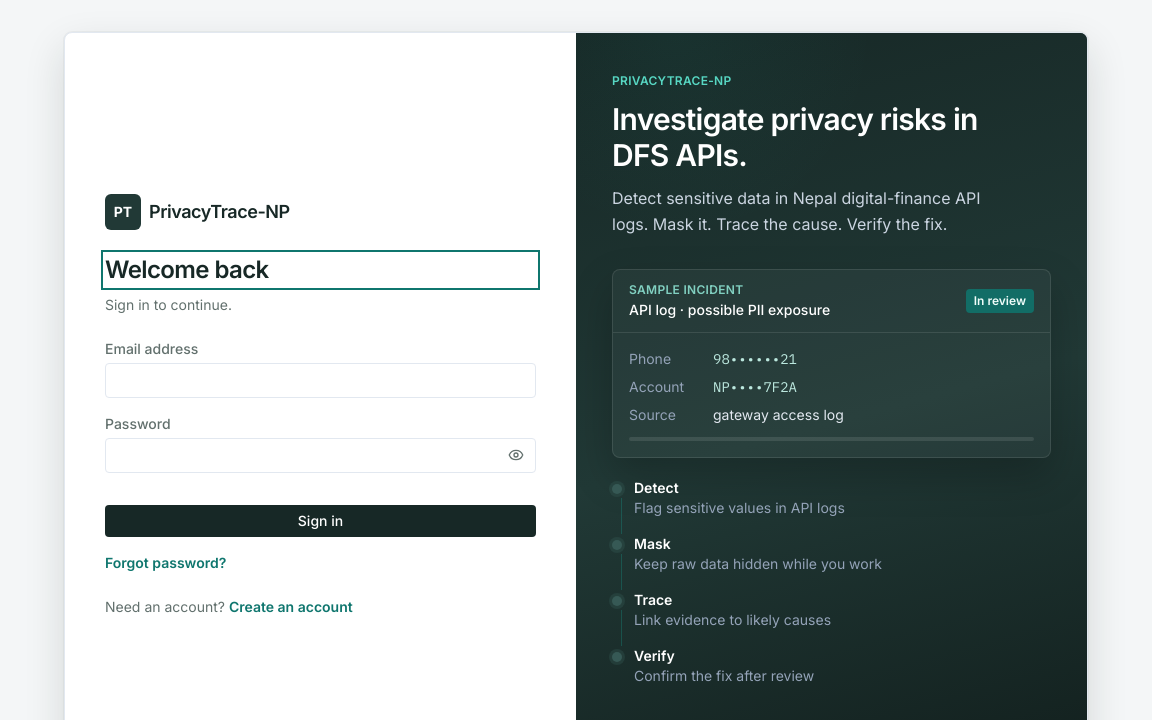
auth signup UI › switches between login and signup modes
Expected: the heading "Welcome back" is shown, [105,254,536,286]
Click the link "Create an account" at [291, 606], box [229,598,353,615]
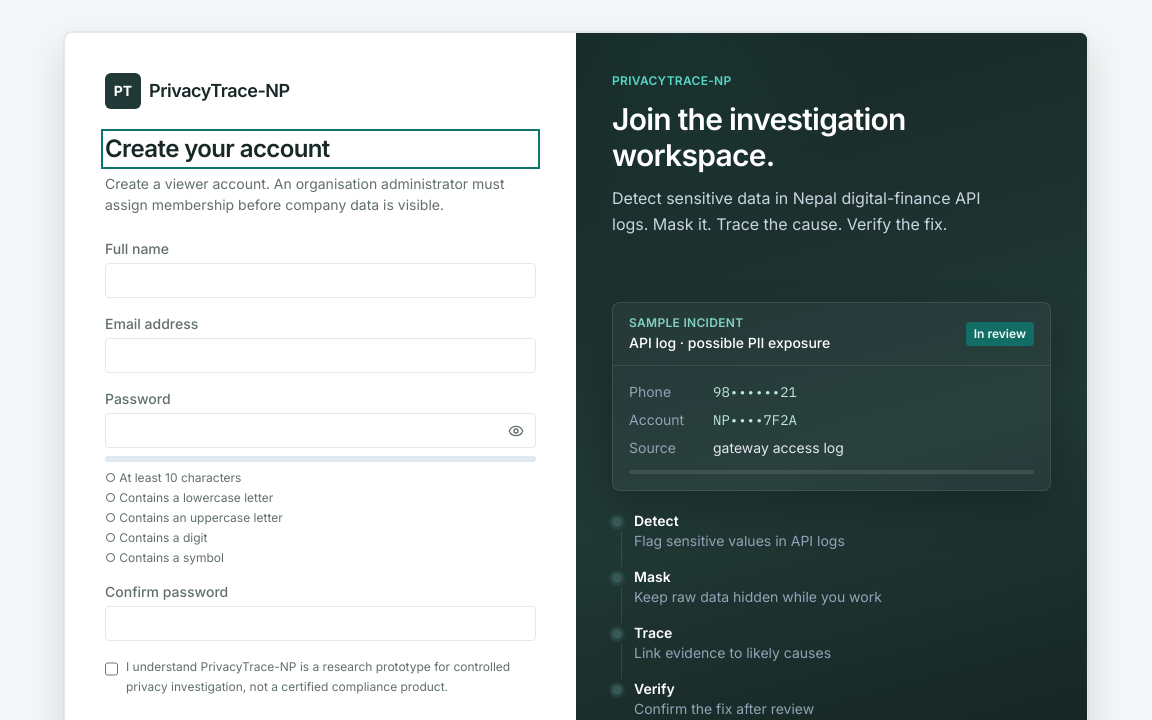
Expected: the heading "Create your account" is shown, [105,133,536,165]
